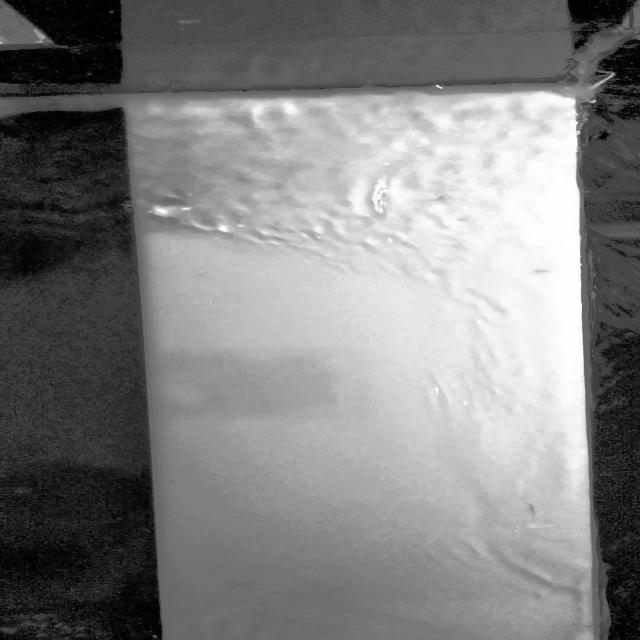shrimp: (527, 501, 548, 519), (523, 266, 557, 276)
